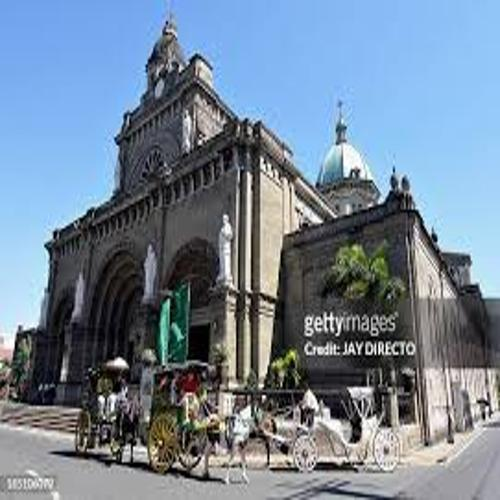Manila Cathedral Church: (30, 9, 491, 445)
